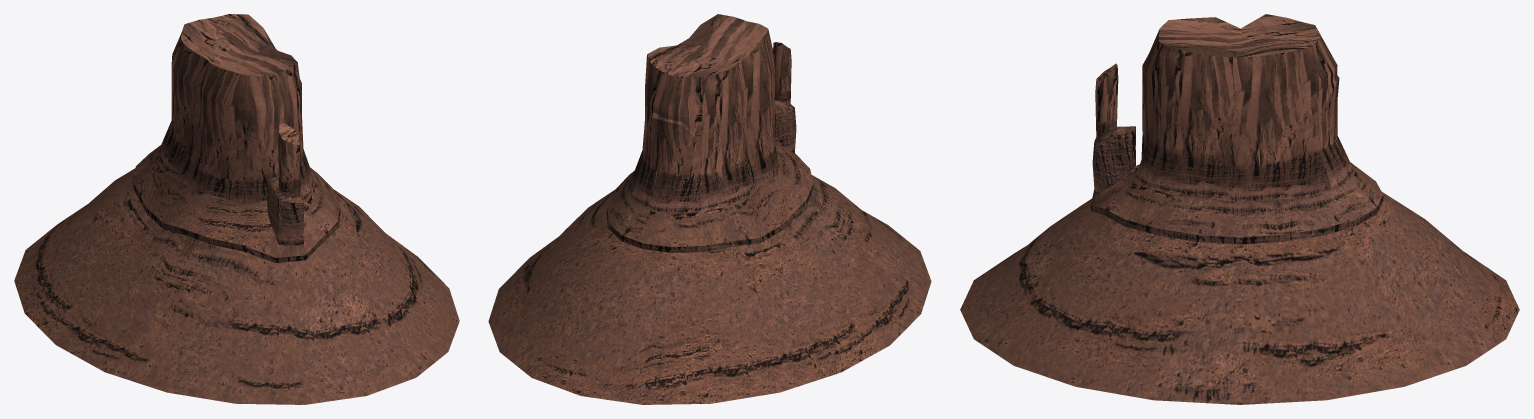
File: object_55_lev2.glb
3 views of the same model, side by side, from view 1: azimuth 30°, elevation 25°; view 2: azimuth 150°, elevation 25°; view 3: azimuth 270°, elevation 25° (orthographic). The views are drawn at different scales.
Visible parts, largest first — view 1: object_55_lev2; view 2: object_55_lev2; view 3: object_55_lev2.
Part boxes in pixels (box(x1,y1,x2,y2)): object_55_lev2: box(14, 14, 459, 404); object_55_lev2: box(488, 14, 931, 404); object_55_lev2: box(960, 14, 1519, 404).
Size of the model in its own units: 8.76 by 5.97 by 10.88.
1 material, 1 textured.
